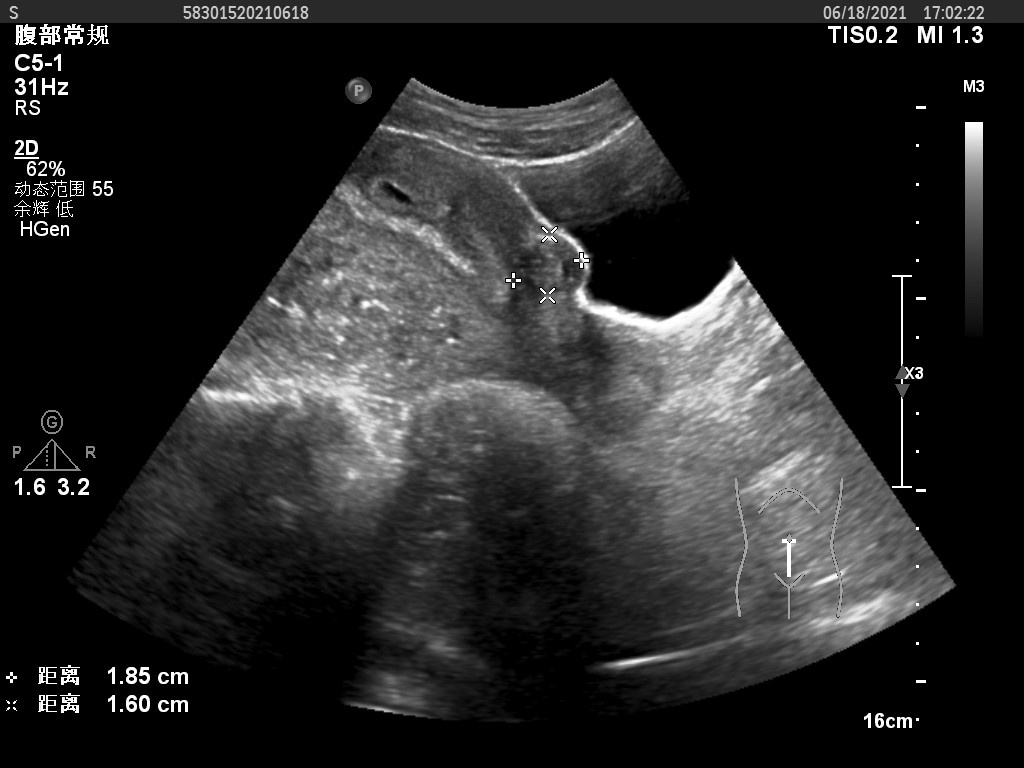肌瘤: (518, 246, 574, 290)
